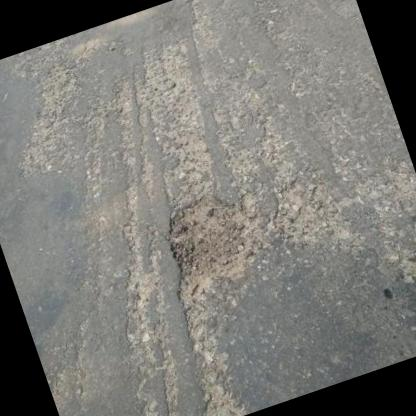pothole: (148, 183, 266, 307)
